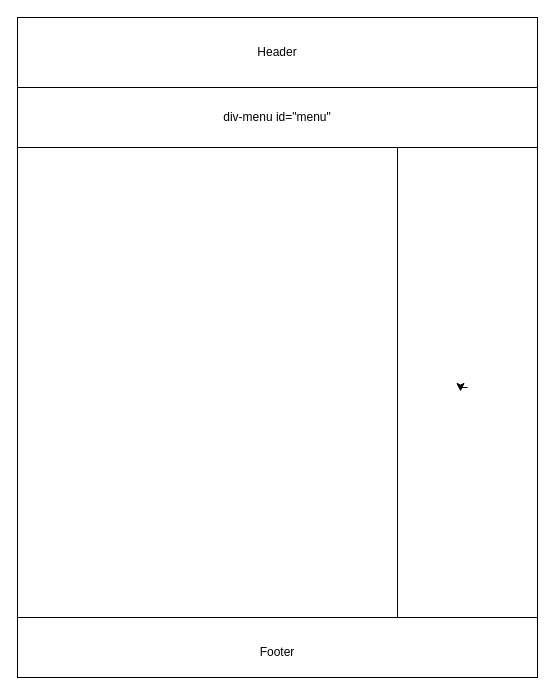
Image size: 555x695. Some labels were removed from this diagram. The shapes that lost their labels are listed below. From the top down, each one's box as (x1, y1, x2, y2) in pixels, then its label:
(16, 146, 398, 618): div-main id="left-main"
(396, 146, 538, 618): div id="right-div"
